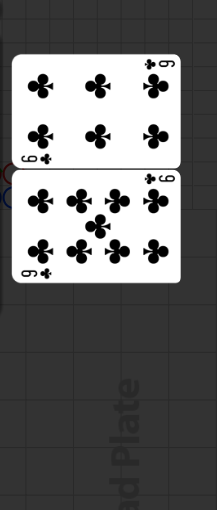6C: (20, 151, 54, 165)
9C: (20, 266, 55, 280)
